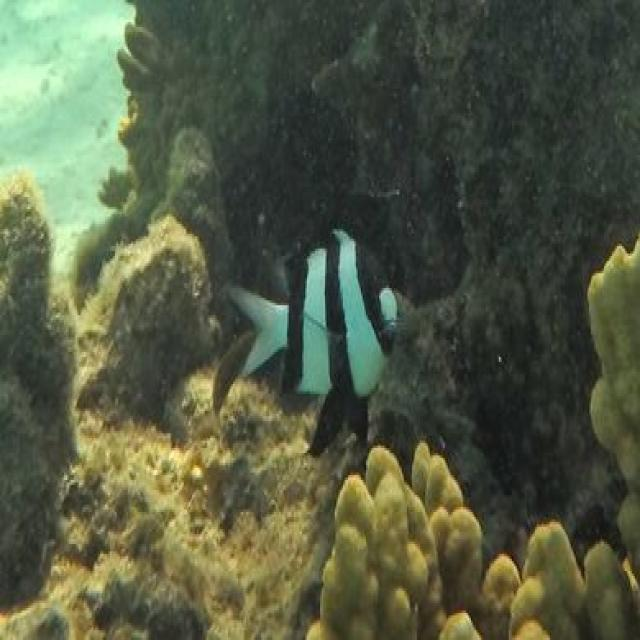ThreeStripedDamselfish: (228, 229, 397, 458)
